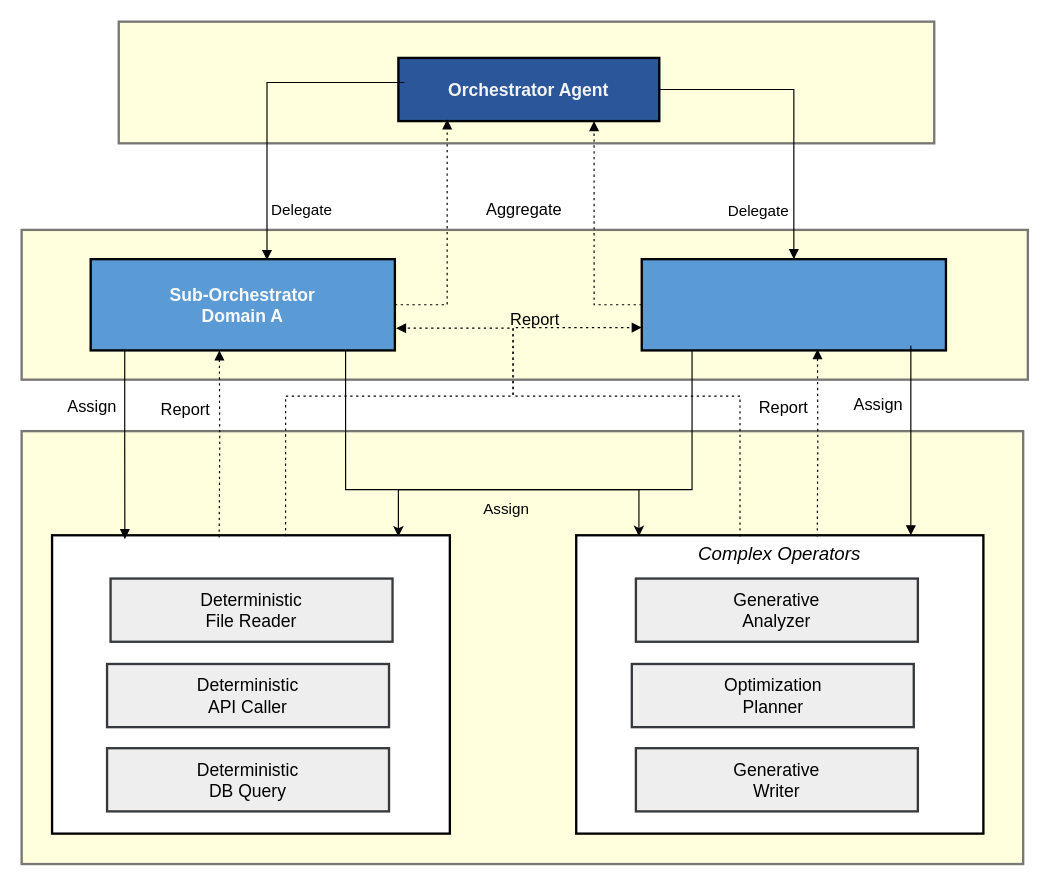
The diagram is 1048 pixels wide and 885 high, and some of its shapes have lost their labels. Each missing label, with the box of its shape:
Execution Layer: (20, 429, 1024, 865)
Simple Operators: (50, 534, 450, 834)
Strategic Layer: (117, 20, 935, 144)
Sub-Orchestrator Domain B: (640, 257, 947, 351)
Tactical Layer: (20, 228, 1028, 380)
